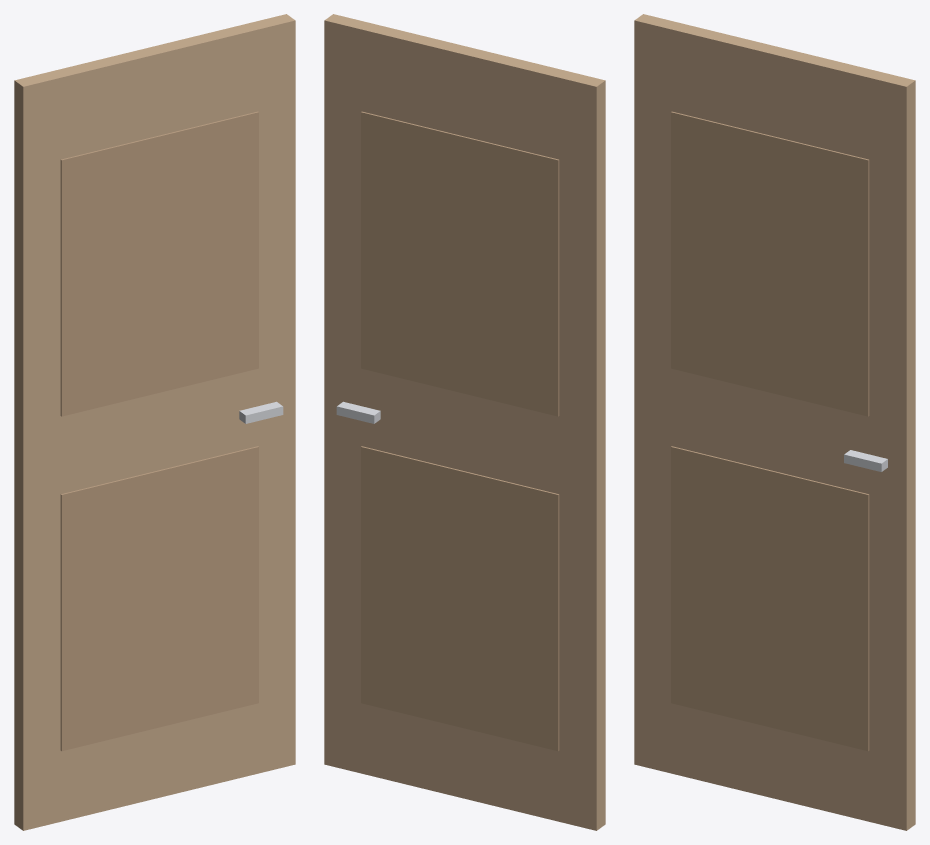
File: environment_door_basic.glb
3 views of the same model, side by side, from view 1: azimuth 30°, elevation 25°; view 2: azimuth 150°, elevation 25°; view 3: azimuth 330°, elevation 25° (orthographic).
Parts seen in each view (by area): view 1: DoorHingeRoot; view 2: DoorHingeRoot; view 3: DoorHingeRoot.
Boxes of the visible parts, x1,y1,x2,y2 form: DoorHingeRoot: (14, 14, 295, 830); DoorHingeRoot: (324, 14, 605, 830); DoorHingeRoot: (634, 14, 915, 830).
Size of the model in its own units: 0.8 by 2.09 by 0.11.
